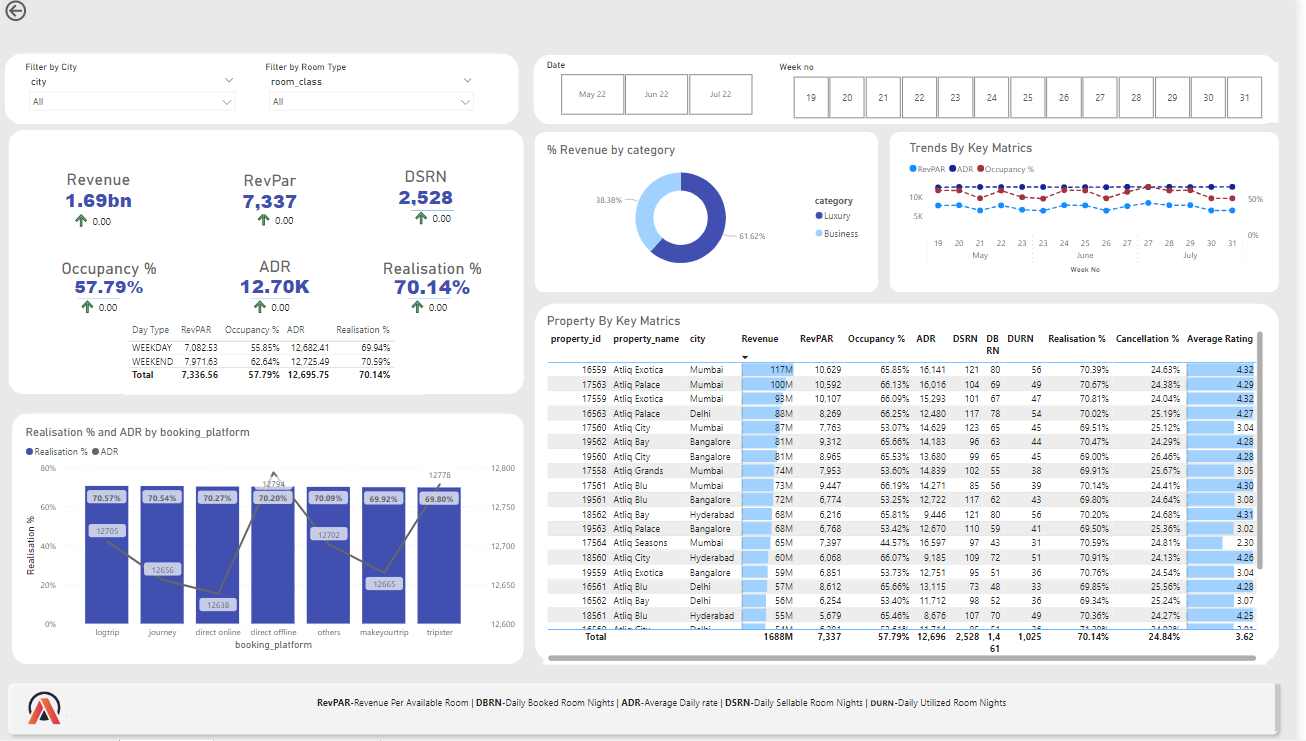

What the dashboard file says about the page in this screenshot:
{"tool":"powerbi","page":{"name":"Page 1","canvas":[1880,1100],"ordinal":0},"visuals":[{"type":"shape","box":[9.3,192.6,750,385.2],"z":0},{"type":"shape","box":[774.1,446.3,1083.3,524.1],"z":1000},{"type":"shape","box":[14.8,605.6,744.4,364.8],"z":2000},{"type":"shape","box":[1290.7,196.3,566.7,233.3],"z":3000},{"type":"shape","box":[774.1,196.3,500,233.3],"z":4000},{"type":"shape","box":[55.6,224.1,666.7,287],"z":5000},{"type":"shape","box":[772.2,83.3,1083.3,101.9],"z":6000},{"type":"shape","box":[3.7,81.5,748.1,103.7],"z":7000},{"type":"tableEx","title":"Property By Key Matrics","fields":{"Values":["dim_hotels.property_id","dim_hotels.property_name","dim_hotels.city","key_matrics.Revenue","key_matrics.RevPAR","key_matrics.Occupancy %","key_matrics.ADR","key_matrics.DSRN","key_matrics.DBRN","key_matrics.DURN","key_matrics.Realisation %","key_matrics.Cancellation %"]},"box":[787,459.3,1051.9,511.1],"z":8000},{"type":"slicer","title":"Filter by City","fields":{"Values":["dim_hotels.city"]},"box":[29.6,94.4,320.4,75.9],"z":9000},{"type":"slicer","title":"Filter by Room Type","fields":{"Values":["dim_rooms.room_class"]},"box":[378.2,94.5,318.2,76.4],"z":10000},{"type":"slicer","title":"Date","fields":{"Values":["dim_date.mmm yy"]},"box":[787,90.7,327.8,87],"z":11000},{"type":"slicer","title":"Week no","fields":{"Values":["dim_date.Wn"]},"box":[1125.5,94.1,731.4,88.2],"z":12000},{"type":"donutChart","title":"% Revenue by category","fields":{"Y":["key_matrics.Revenue"],"Category":["dim_hotels.category"]},"box":[787,211.1,474.1,200],"z":13000},{"type":"lineChart","title":"Trends By Key Matrics","fields":{"Category":["dim_date.mmm yy.Variation.Date Hierarchy.Month","dim_date.Week No"],"Y":["key_matrics.RevPAR","key_matrics.ADR"],"Y2":["key_matrics.Occupancy %"]},"box":[1313.7,209.8,525.5,198],"z":14000},{"type":"lineStackedColumnComboChart","fields":{"Category":["fact_bookings.booking_platform"],"Y":["key_matrics.Realisation %"],"Y2":["key_matrics.ADR"]},"box":[29.6,622.2,722.2,333.3],"z":15000},{"type":"actionButton","box":[0,0,100,40],"z":17000},{"type":"tableEx","fields":{"Values":["key_matrics.Revenue WoW change %"]},"box":[353.7,392,85.2,90.7],"z":18000},{"type":"tableEx","fields":{"Values":["key_matrics.Revenue WoW change %"]},"box":[359.3,264.8,83.3,105.6],"z":19000},{"type":"tableEx","fields":{"Values":["key_matrics.Revenue WoW change %"]},"box":[94.4,266.7,96.3,100],"z":20000},{"type":"card","title":"Revenue","fields":{"Values":["key_matrics.Revenue"]},"box":[72.2,250,135.2,64.8],"z":21000},{"type":"card","title":"RevPar","fields":{"Values":["key_matrics.RevPAR"]},"box":[305.6,251.9,168.5,63],"z":22000},{"type":"card","title":"ADR","fields":{"Values":["key_matrics.ADR"]},"box":[316.7,379,161.1,59.3],"z":23000},{"type":"tableEx","fields":{"Values":["key_matrics.Revenue WoW change %"]},"box":[103.7,392,81.5,90.7],"z":24000},{"type":"card","title":"Occupancy %","fields":{"Values":["key_matrics.Occupancy %"]},"box":[72.2,379.9,166.7,57.4],"z":25000},{"type":"tableEx","fields":{"Values":["key_matrics.Revenue WoW change %"]},"box":[583.3,392,88.9,90.7],"z":26000},{"type":"card","title":"Realisation %","fields":{"Values":["key_matrics.Realisation %"]},"box":[540.7,379.9,172.2,57.4],"z":27000},{"type":"tableEx","fields":{"Values":["key_matrics.Revenue WoW change %"]},"box":[588.9,263,83.3,103.7],"z":28000},{"type":"card","title":"DSRN","fields":{"Values":["key_matrics.DSRN"]},"box":[511.1,248.1,211.1,61.1],"z":29000},{"type":"shape","box":[0,988.9,1864.8,92.6],"z":30000},{"type":"image","box":[14.8,994.4,88.9,79.6],"z":32000},{"type":"textbox","box":[409.3,994.4,1455.6,79.6],"z":33000},{"type":"tableEx","fields":{"Values":["dim_date.day_type","key_matrics.RevPAR","key_matrics.Occupancy %","key_matrics.ADR","key_matrics.Realisation %"]},"box":[177.8,468.5,435.2,109.3],"z":33500}]}

Visuals, with their boxes on the page's 1880x1100 design canvas (x1, y1, x2, y2). These are canvas units, not pixel positions in the 1306x741 screenshot, which may show the page scaled, cropped or inside an application window:
shape: 9/193/759/578
shape: 774/446/1857/970
shape: 15/606/759/970
shape: 1291/196/1857/430
shape: 774/196/1274/430
shape: 56/224/722/511
shape: 772/83/1856/185
shape: 4/82/752/185
"Property By Key Matrics" tableEx: 787/459/1839/970
"Filter by City" slicer: 30/94/350/170
"Filter by Room Type" slicer: 378/94/696/171
"Date" slicer: 787/91/1115/178
"Week no" slicer: 1126/94/1857/182
"% Revenue by category" donutChart: 787/211/1261/411
"Trends By Key Matrics" lineChart: 1314/210/1839/408
lineStackedColumnComboChart - fact_bookings.booking_platform x key_matrics.Realisation %: 30/622/752/956
actionButton: 0/0/100/40
tableEx - key_matrics.Revenue WoW change %: 354/392/439/483
tableEx - key_matrics.Revenue WoW change %: 359/265/443/370
tableEx - key_matrics.Revenue WoW change %: 94/267/191/367
"Revenue" card: 72/250/207/315
"RevPar" card: 306/252/474/315
"ADR" card: 317/379/478/438
tableEx - key_matrics.Revenue WoW change %: 104/392/185/483
"Occupancy %" card: 72/380/239/437
tableEx - key_matrics.Revenue WoW change %: 583/392/672/483
"Realisation %" card: 541/380/713/437
tableEx - key_matrics.Revenue WoW change %: 589/263/672/367
"DSRN" card: 511/248/722/309
shape: 0/989/1865/1082
image: 15/994/104/1074
textbox: 409/994/1865/1074
tableEx - dim_date.day_type x key_matrics.RevPAR: 178/468/613/578
